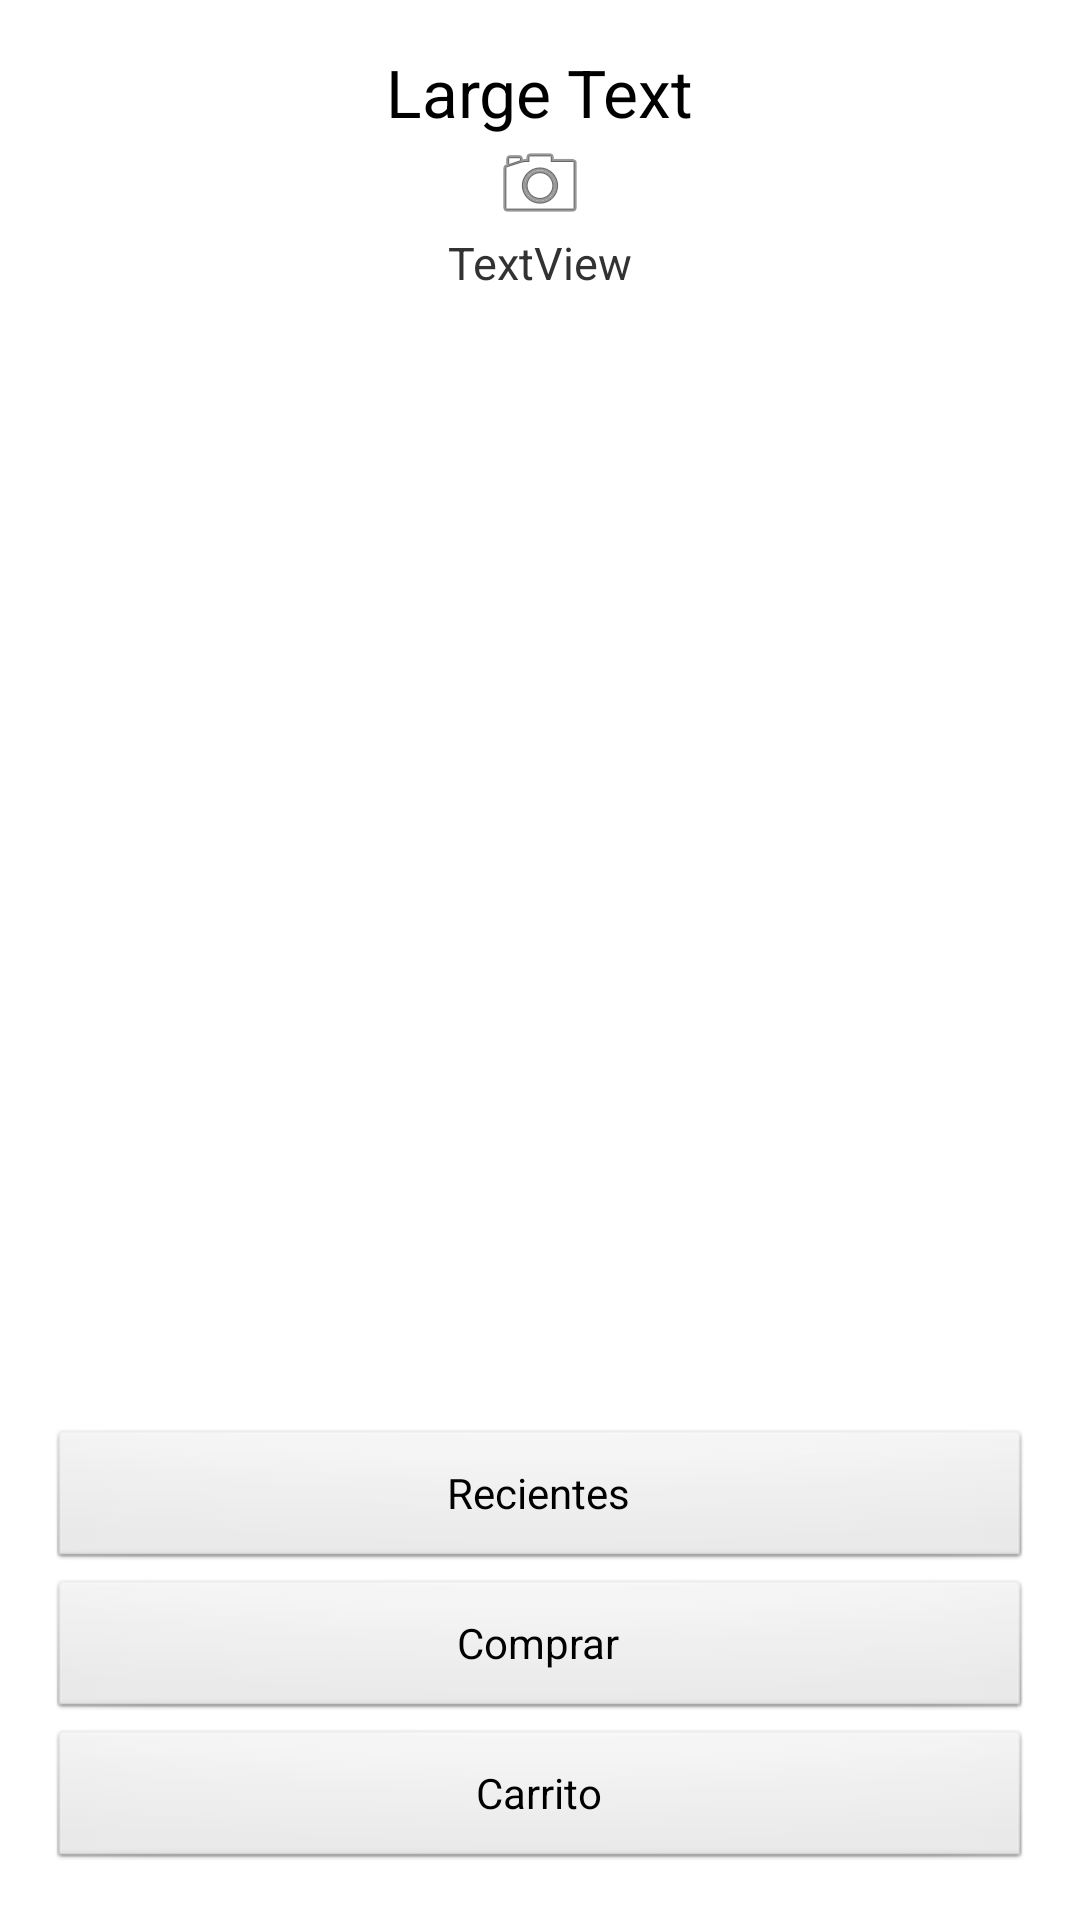

Point at icon controls on the screen. Image size 1080 × 1920, points as point (x, y).
camera: point (540, 182)
